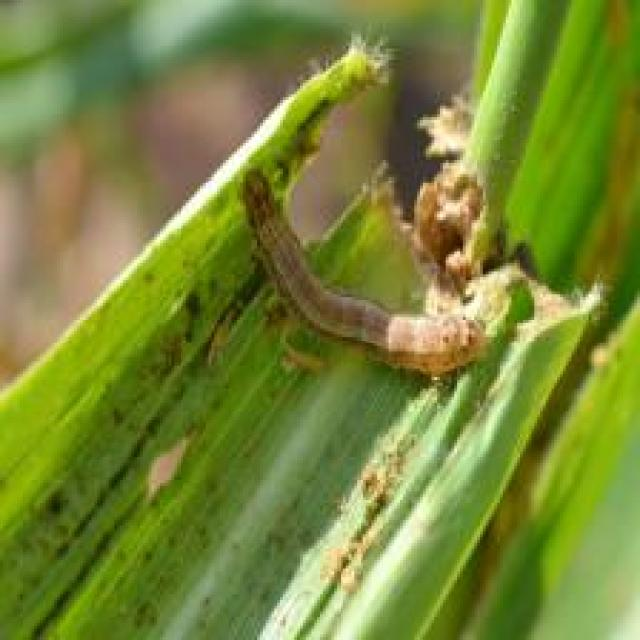Plaga: (233, 153, 490, 378)
